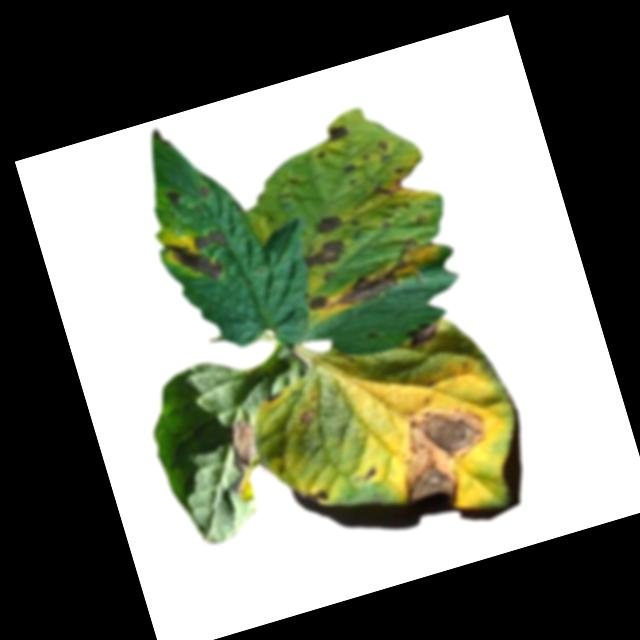Early_blight: (380, 390, 509, 520), (326, 248, 421, 311), (218, 416, 275, 504), (167, 231, 224, 288), (299, 235, 350, 273), (405, 318, 445, 349), (291, 477, 330, 508), (191, 225, 229, 254), (313, 208, 349, 237), (371, 175, 406, 200), (322, 119, 352, 143), (305, 290, 330, 312), (359, 461, 382, 481), (298, 405, 317, 425), (165, 187, 184, 204), (375, 137, 392, 153), (196, 182, 211, 200)
